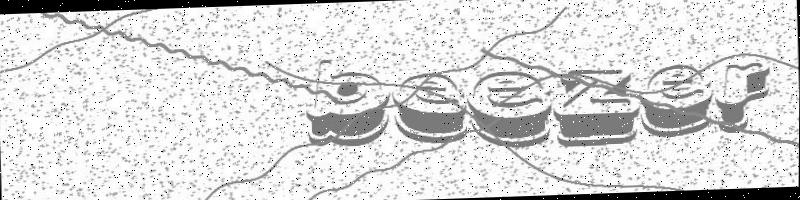b: (303, 52, 392, 150)
e: (466, 69, 553, 149), (389, 68, 472, 146), (642, 64, 715, 138), (716, 59, 777, 133)
z: (556, 64, 644, 149)
